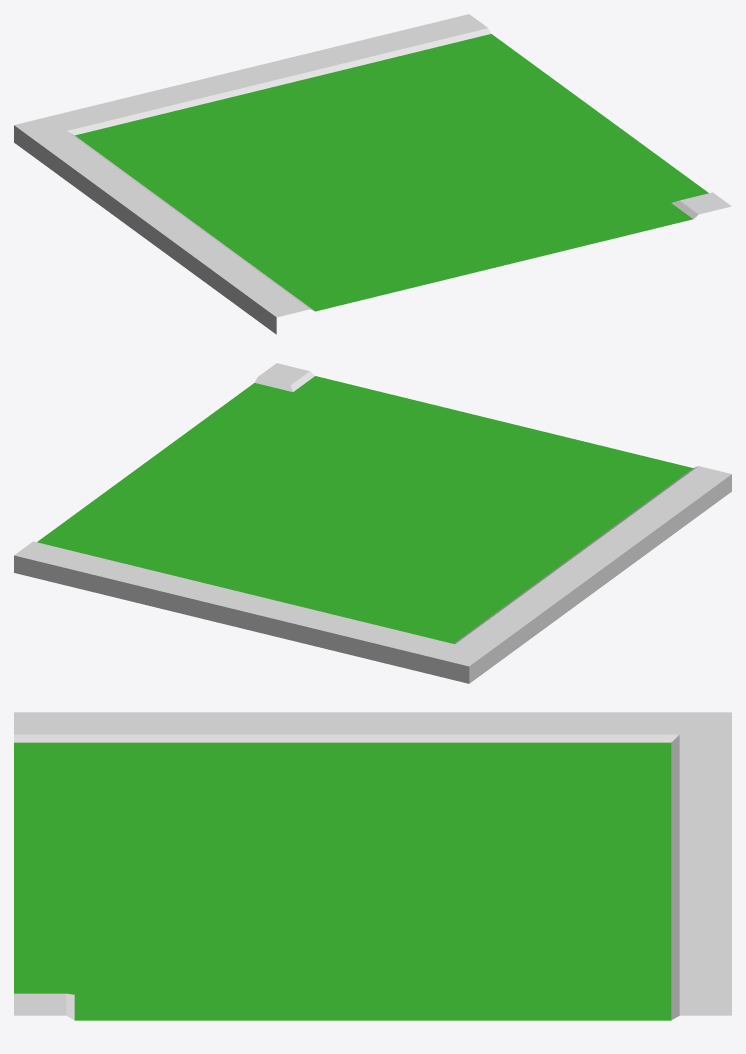
The model's file is GrassBed_1_B_9.fbx.
3 views of the same model, one above another, from view 1: azimuth 30°, elevation 25°; view 2: azimuth 150°, elevation 25°; view 3: azimuth 270°, elevation 25° (orthographic). The views are drawn at different scales.
Parts seen in each view (by area): view 1: GrassBed_1_B_9; view 2: GrassBed_1_B_9; view 3: GrassBed_1_B_9.
Part boxes in pixels (left/top/right/bottom): GrassBed_1_B_9: left=14, top=14, right=731, bottom=334; GrassBed_1_B_9: left=14, top=363, right=731, bottom=683; GrassBed_1_B_9: left=14, top=712, right=731, bottom=1020.
Bounding box in the file's own units: 200 × 7.32 × 200.
